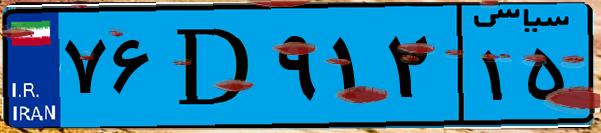1: (330, 28, 385, 110), (475, 38, 525, 113)
2: (385, 28, 445, 110)
5: (525, 38, 570, 115)
6: (110, 28, 158, 98)
7: (57, 26, 110, 100)
9: (270, 28, 330, 110)
D: (158, 12, 270, 120)
